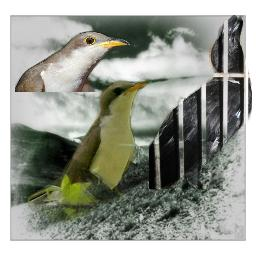Crow: (149, 15, 252, 189)
Cuckoo: (28, 77, 152, 224), (15, 31, 130, 92)
